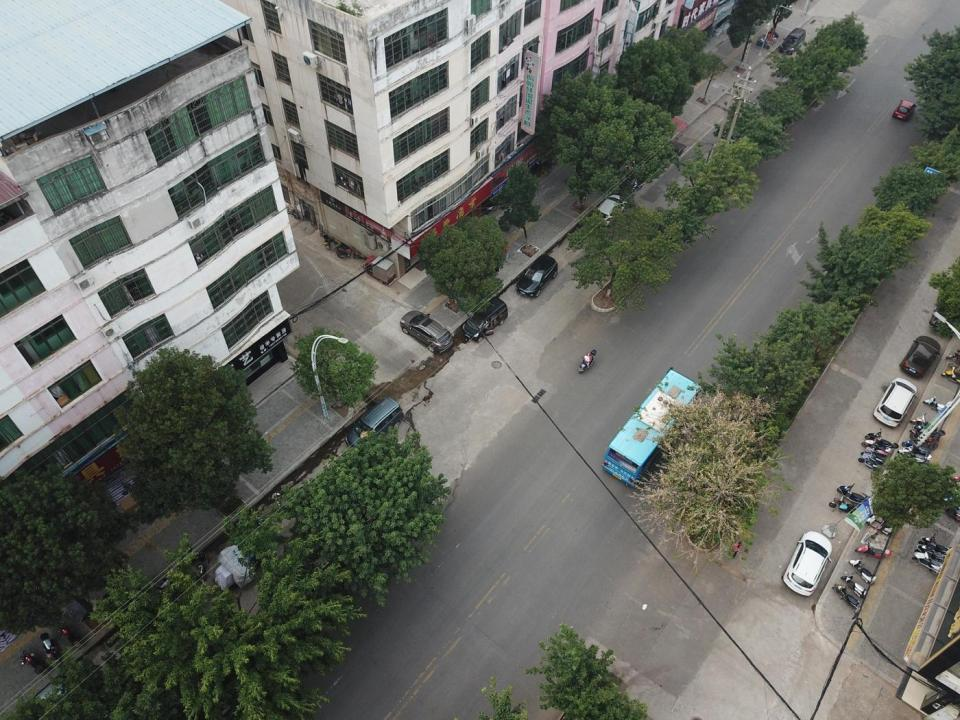bus: (601, 367, 701, 488)
car: (783, 530, 833, 596), (873, 377, 917, 429), (400, 311, 453, 354), (516, 253, 559, 298), (899, 335, 941, 377), (929, 284, 959, 334), (593, 194, 626, 228), (892, 99, 917, 122)
van: (345, 397, 404, 450), (463, 296, 507, 342), (780, 27, 806, 55)
